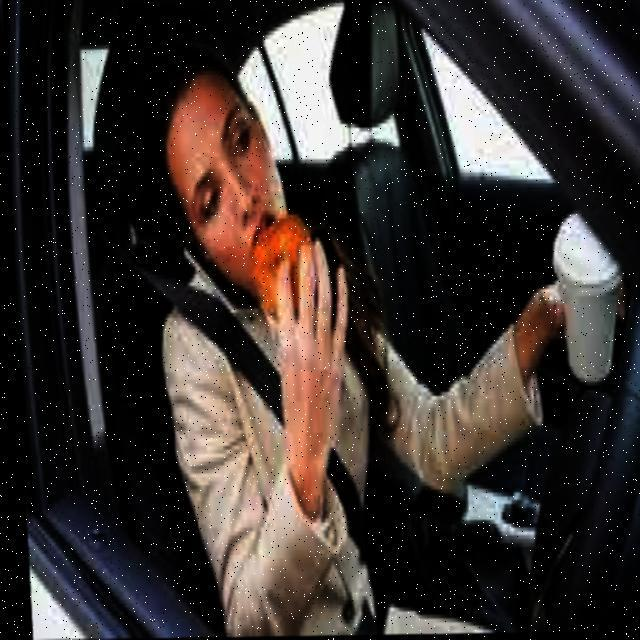seatbelt: (158, 245, 367, 631)
